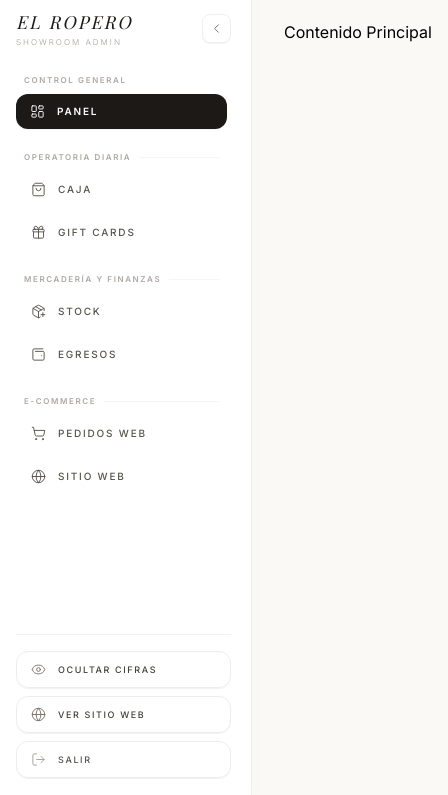
Test case: Modo Privacidad: Ocultar datos de ganancia, caja, etc. › Layout incluye botón de privacidad en la barra lateral que sincroniza el estado
The width and height of the screenshot is (448, 795).
Expected: the text "Ocultar Cifras" is shown, [58,663,157,676]
Click the button with test id "sidebar-privacy-toggle".
click(124, 670)  # box [16,651,231,688]
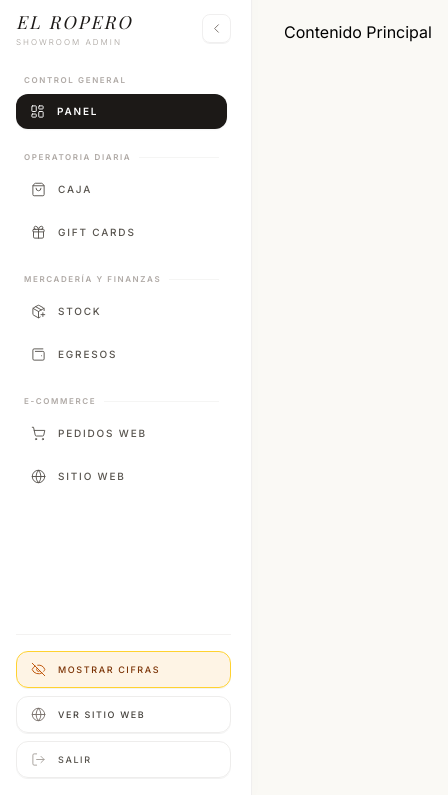
Result: the text "Mostrar Cifras" is shown at [58,663,160,676]
